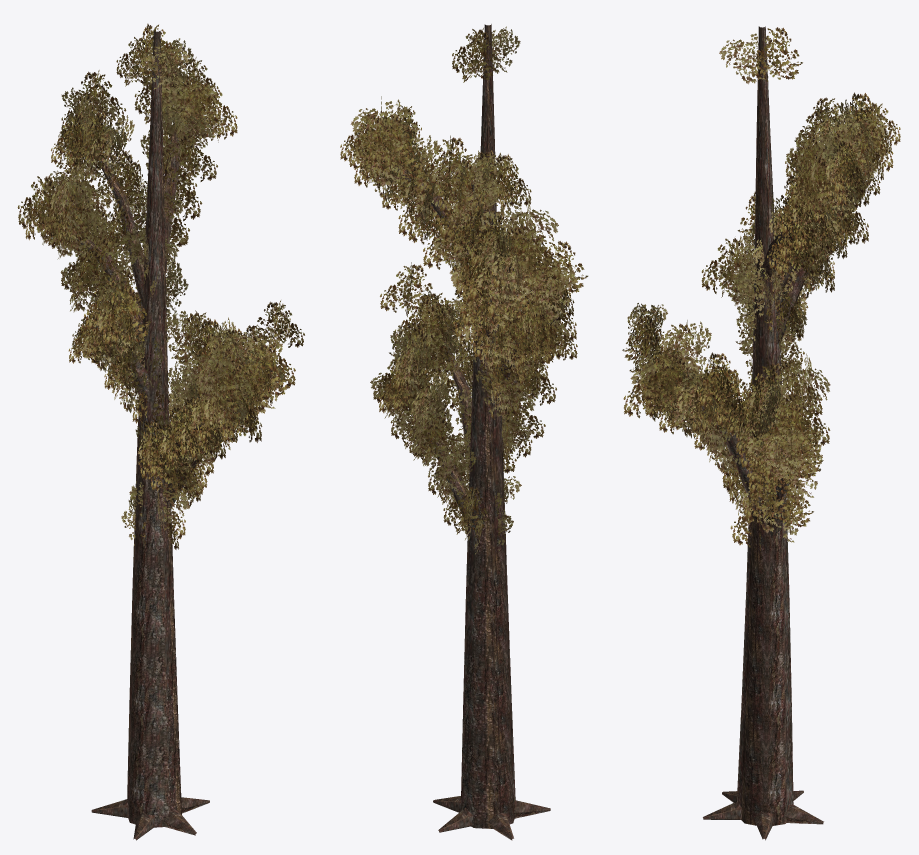
Rendered from tree_3d_02_golden_beige_lod1.glb.
The picture shows the model from 3 angles, left to right: view 1: azimuth 30°, elevation 25°; view 2: azimuth 150°, elevation 25°; view 3: azimuth 270°, elevation 25°; orthographic projection.
Visible parts, largest first — view 1: foliage_cards, wood_geometry; view 2: foliage_cards, wood_geometry; view 3: foliage_cards, wood_geometry.
Part boxes in pixels (x1,y1,x2,y2): foliage_cards: (17,23,304,549); wood_geometry: (75,30,272,840); foliage_cards: (340,26,588,554); wood_geometry: (373,24,558,840); foliage_cards: (622,27,900,550); wood_geometry: (663,26,851,840).
Bounding box in the file's own units: 3.82 × 12.59 × 4.1.
Materials: 2 (2 with a texture image).
